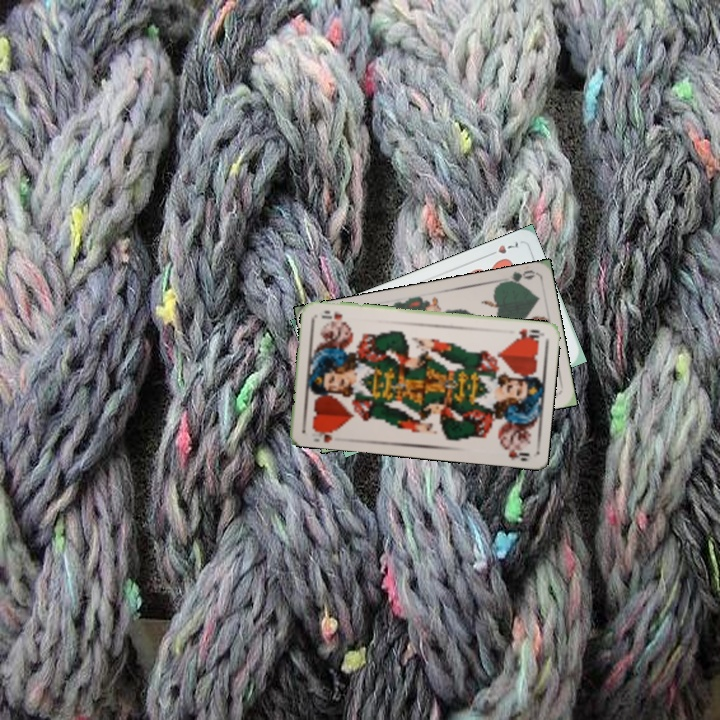GO: (496, 266, 536, 288)
H7: (483, 237, 521, 259)
HO: (308, 423, 340, 444), (513, 325, 544, 344)
